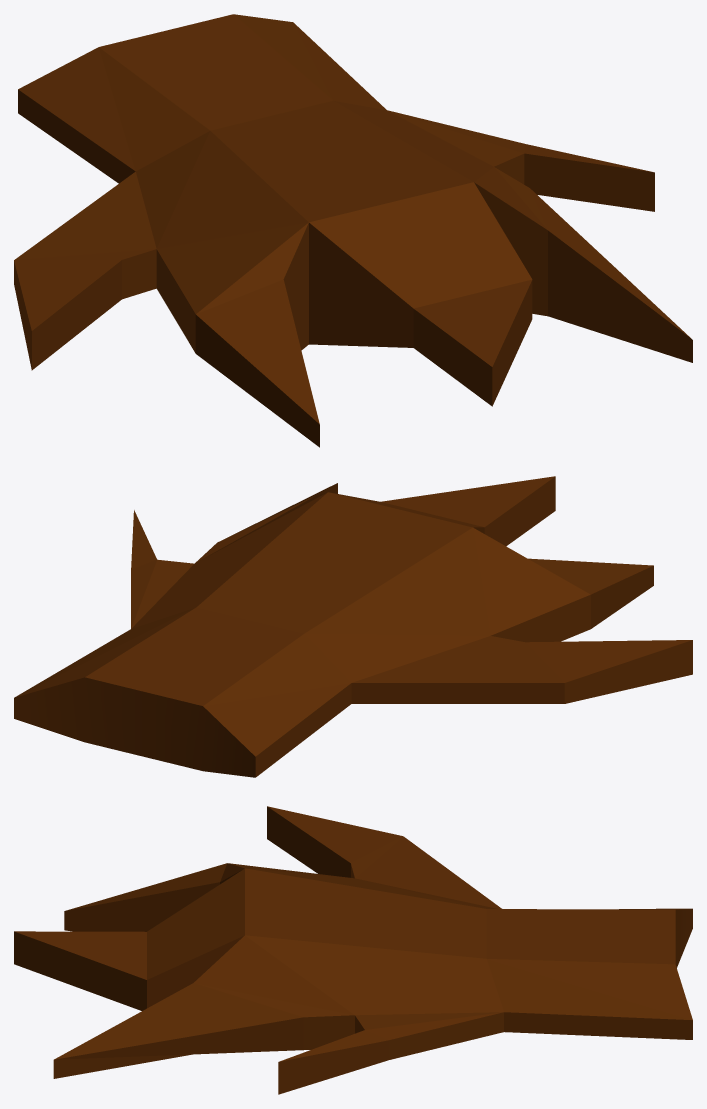
Rendered from juuri.FBX.
3 renders of one model, top to bottom at view 1: azimuth 30°, elevation 25°; view 2: azimuth 150°, elevation 25°; view 3: azimuth 270°, elevation 25°, orthographic. The views are drawn at different scales.
Parts seen in each view (by area): view 1: juuri; view 2: juuri; view 3: juuri.
Part boxes in pixels (x1,y1,x2,y2): juuri: (14,14,692,447); juuri: (14,476,692,777); juuri: (14,806,692,1094).
Size of the model in its own units: 21.09 by 3.91 by 23.66.
